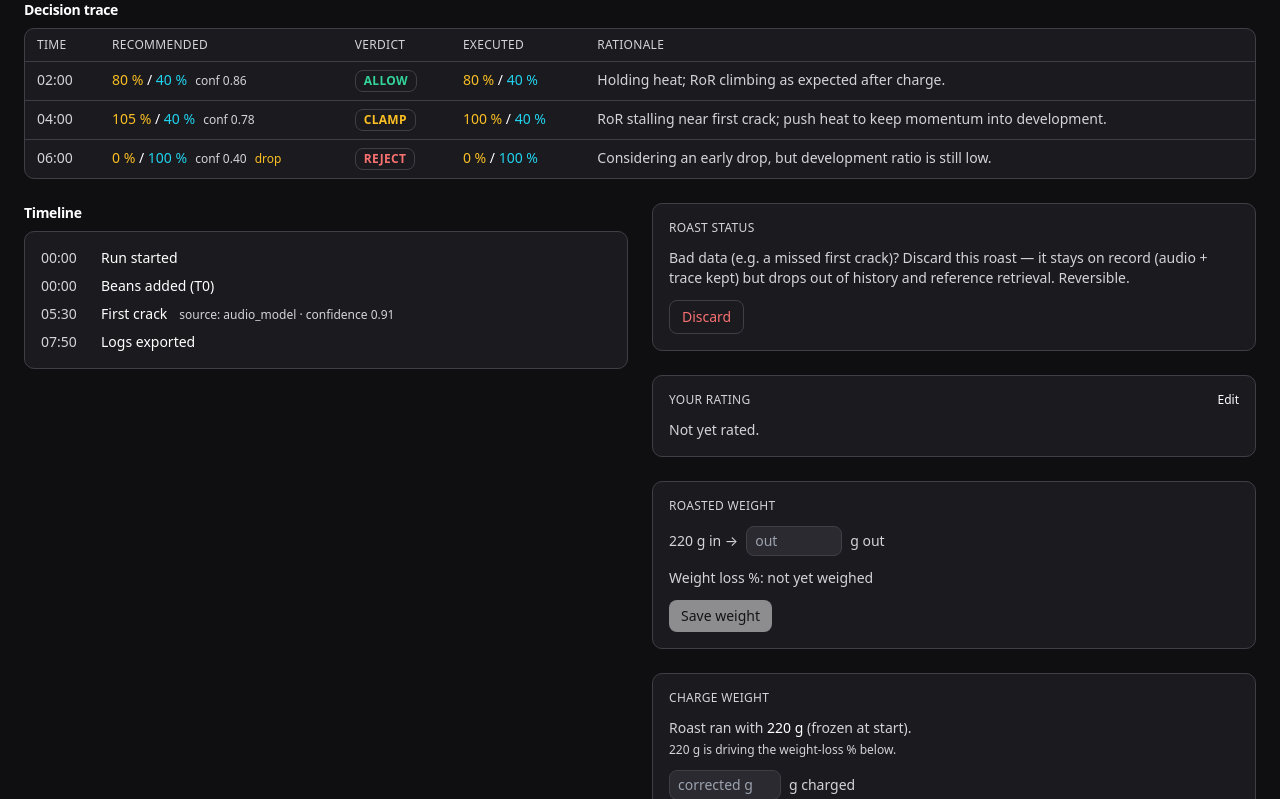
DetailPage shell › #568 Codex (PRRT_kwDOSzMG_c6Rdlk6 / PRRT_kwDOSzMG_c6RdxDQ): the read-only rating headline reflects a saved edit IMMEDIATELY, never a stale flash while the detai
The width and height of the screenshot is (1280, 799).
(page scrolled)
Step 1. Click the button with test id "rating-edit" → (1228, 400), box [1218,392,1239,408]
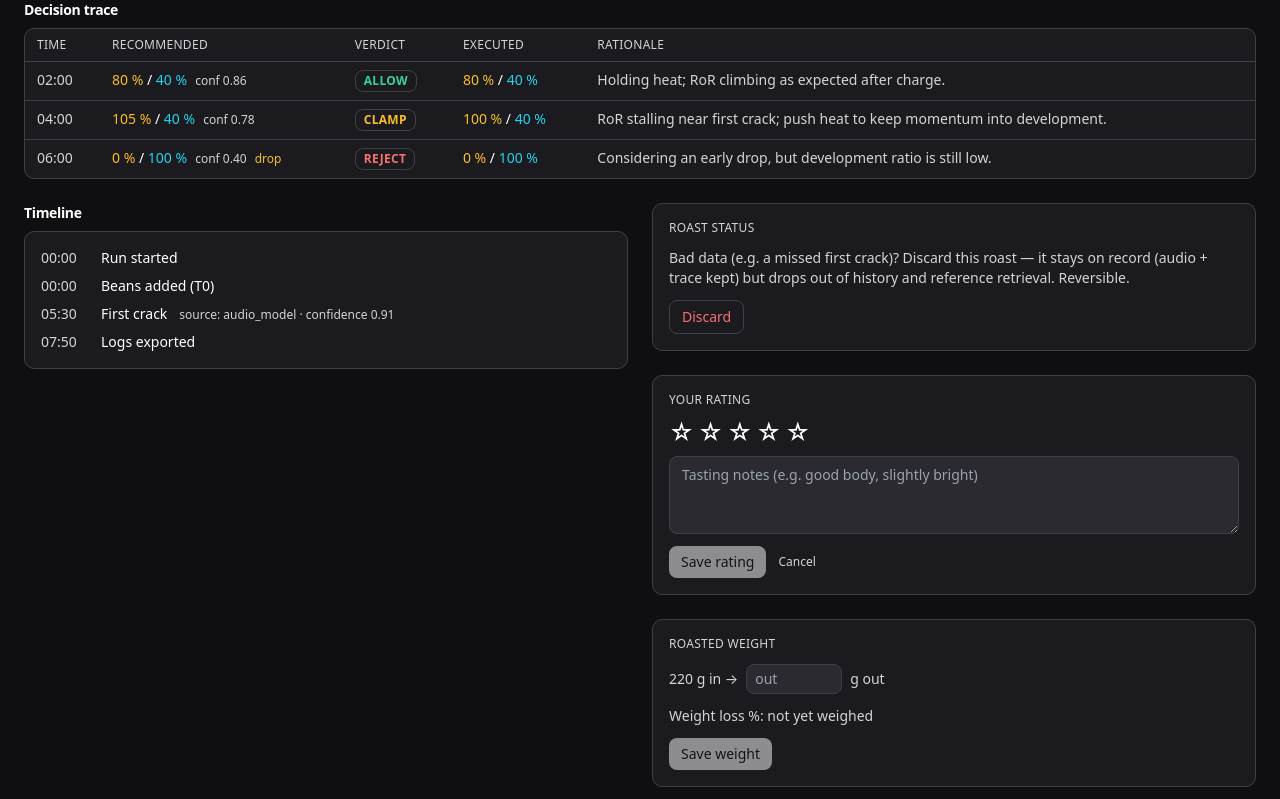
Step 2. Click the radio button with test id "star-5" → (798, 432), box [785,420,810,444]
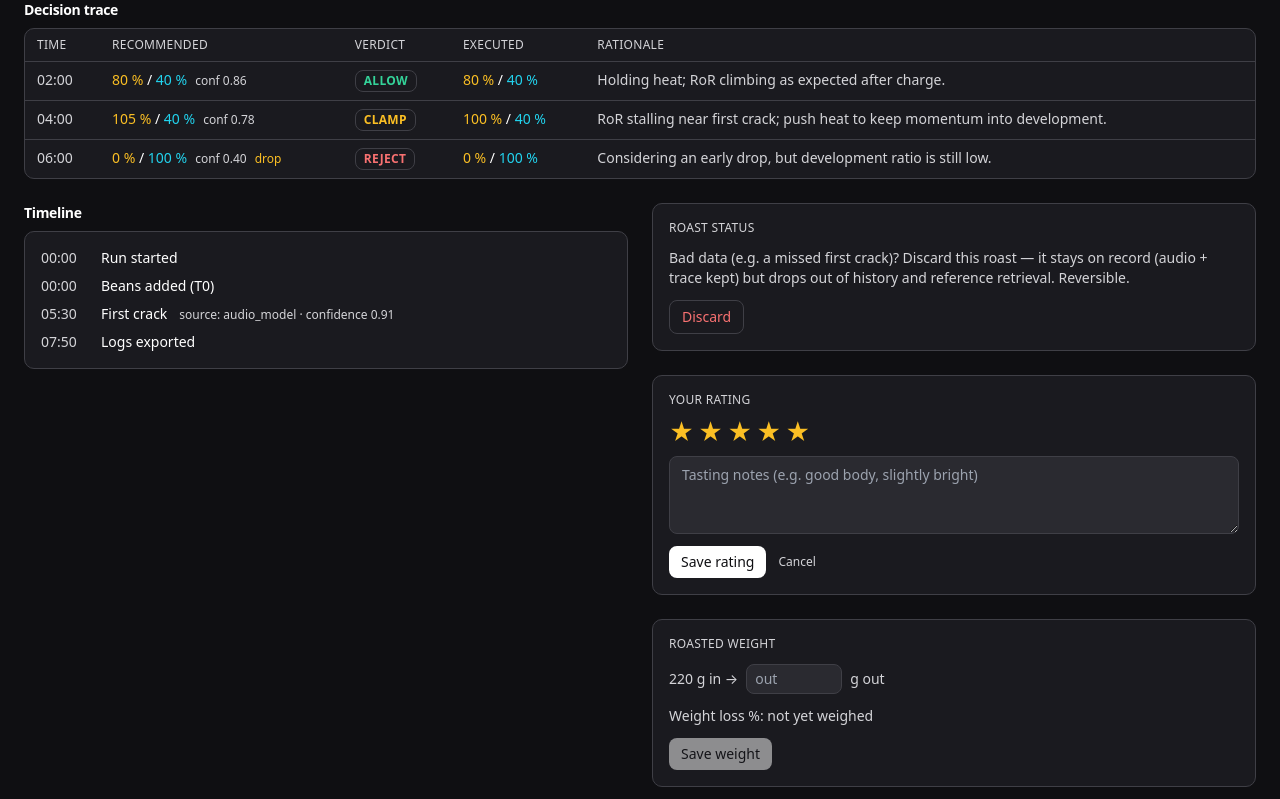
Step 3. Click the button with test id "rating-save" → (718, 562), box [669,546,766,578]
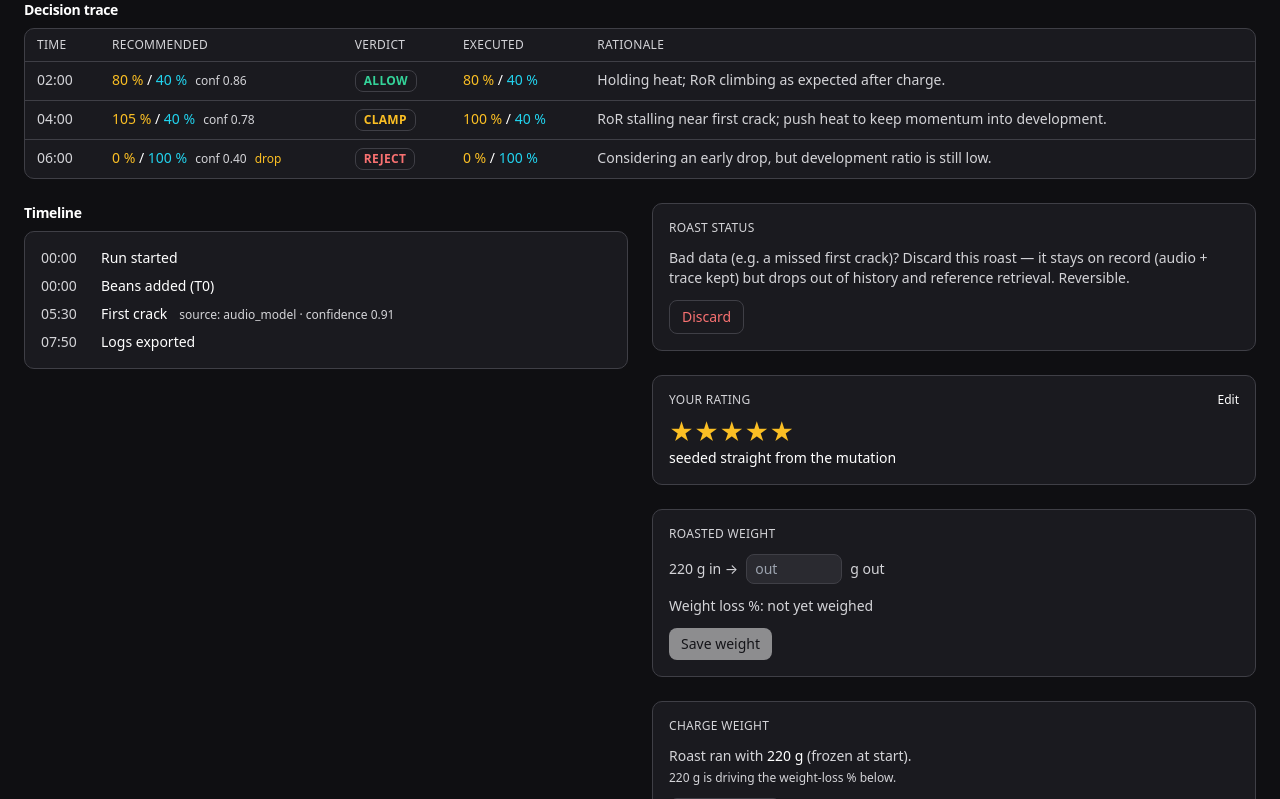
Expected: the element with test id "rating-headline" does not show "Not yet rated.", [669,415,896,467]
Expected: the picture with test id "star-glyphs" reads "★★★★★", [669,415,794,448]
Expected: the element with test id "rating-headline" shows "seeded straight from the mutation", [669,448,896,467]
